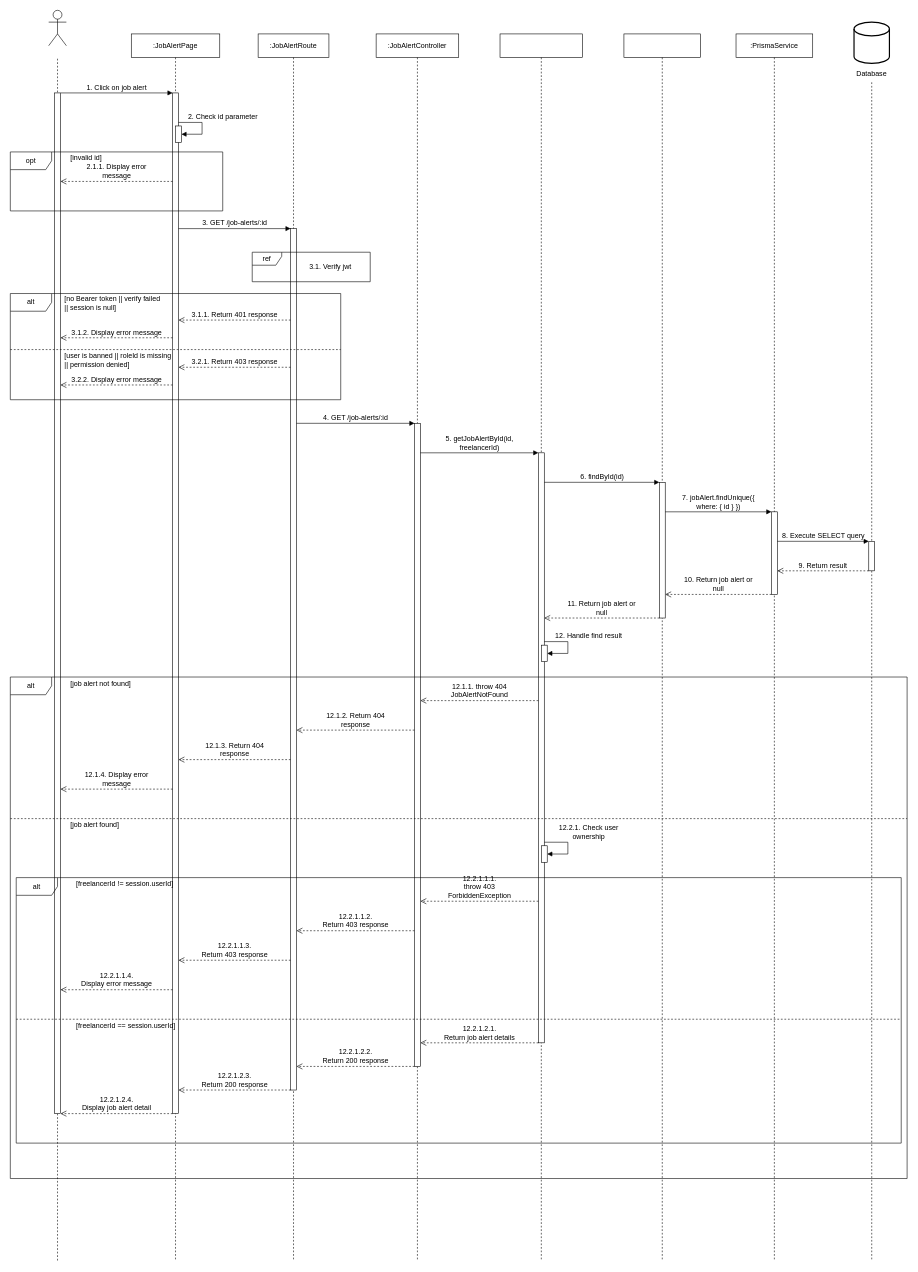
Image size: 918x1272. Some labels were removed from this diagram. The shapes that lost their labels are listed below. From the top down, each one's centre as x and y in pixels, then its label:
At pixel 57 28: "Freelancer".
At pixel 541 647: ":JobAlertService".
At pixel 662 647: ":JobAlertRepo".
